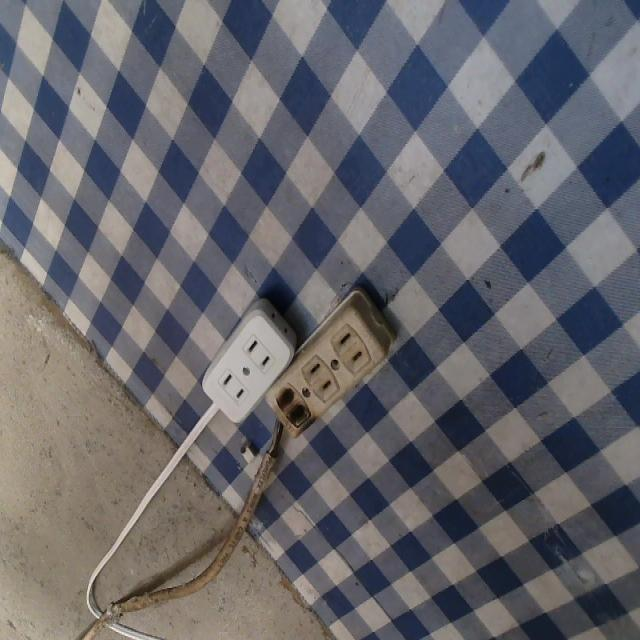-: (271, 381, 318, 439)
